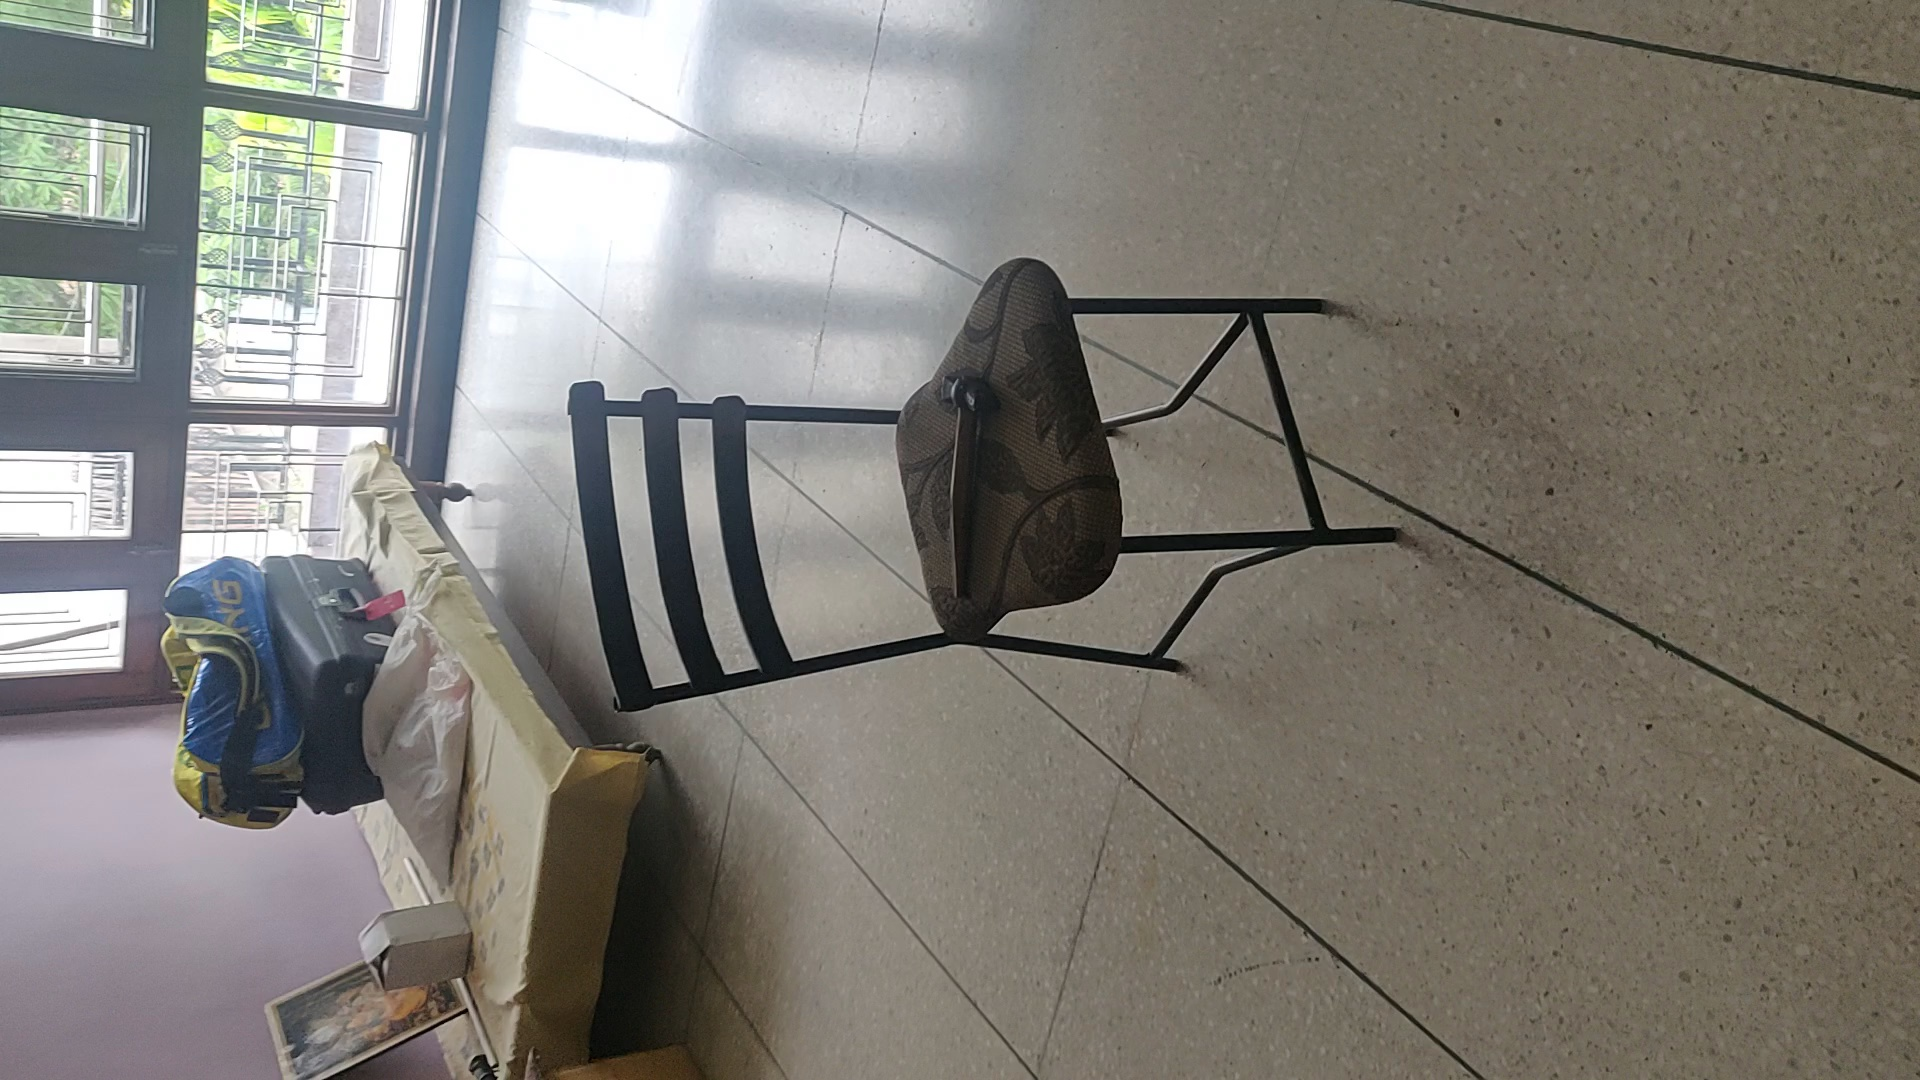hammer: (939, 367, 1004, 603)
